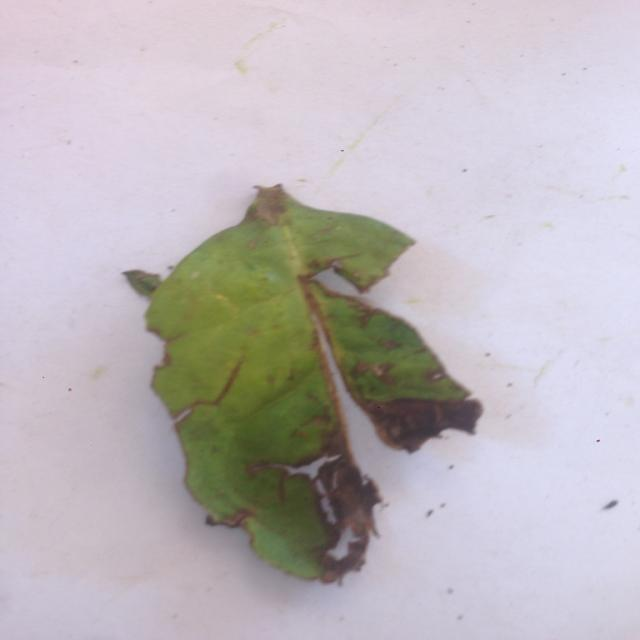Brown Blight: (93, 180, 489, 592)
